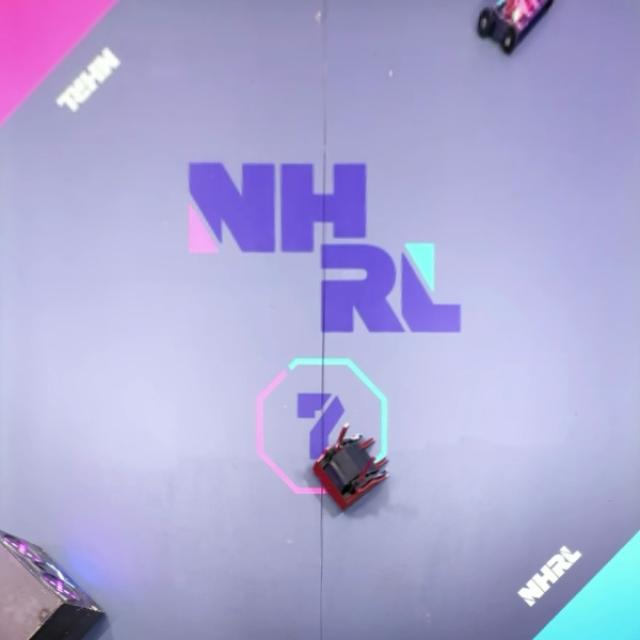housebot: (0, 528, 107, 640)
robot: (313, 422, 390, 512), (476, 0, 556, 55)
